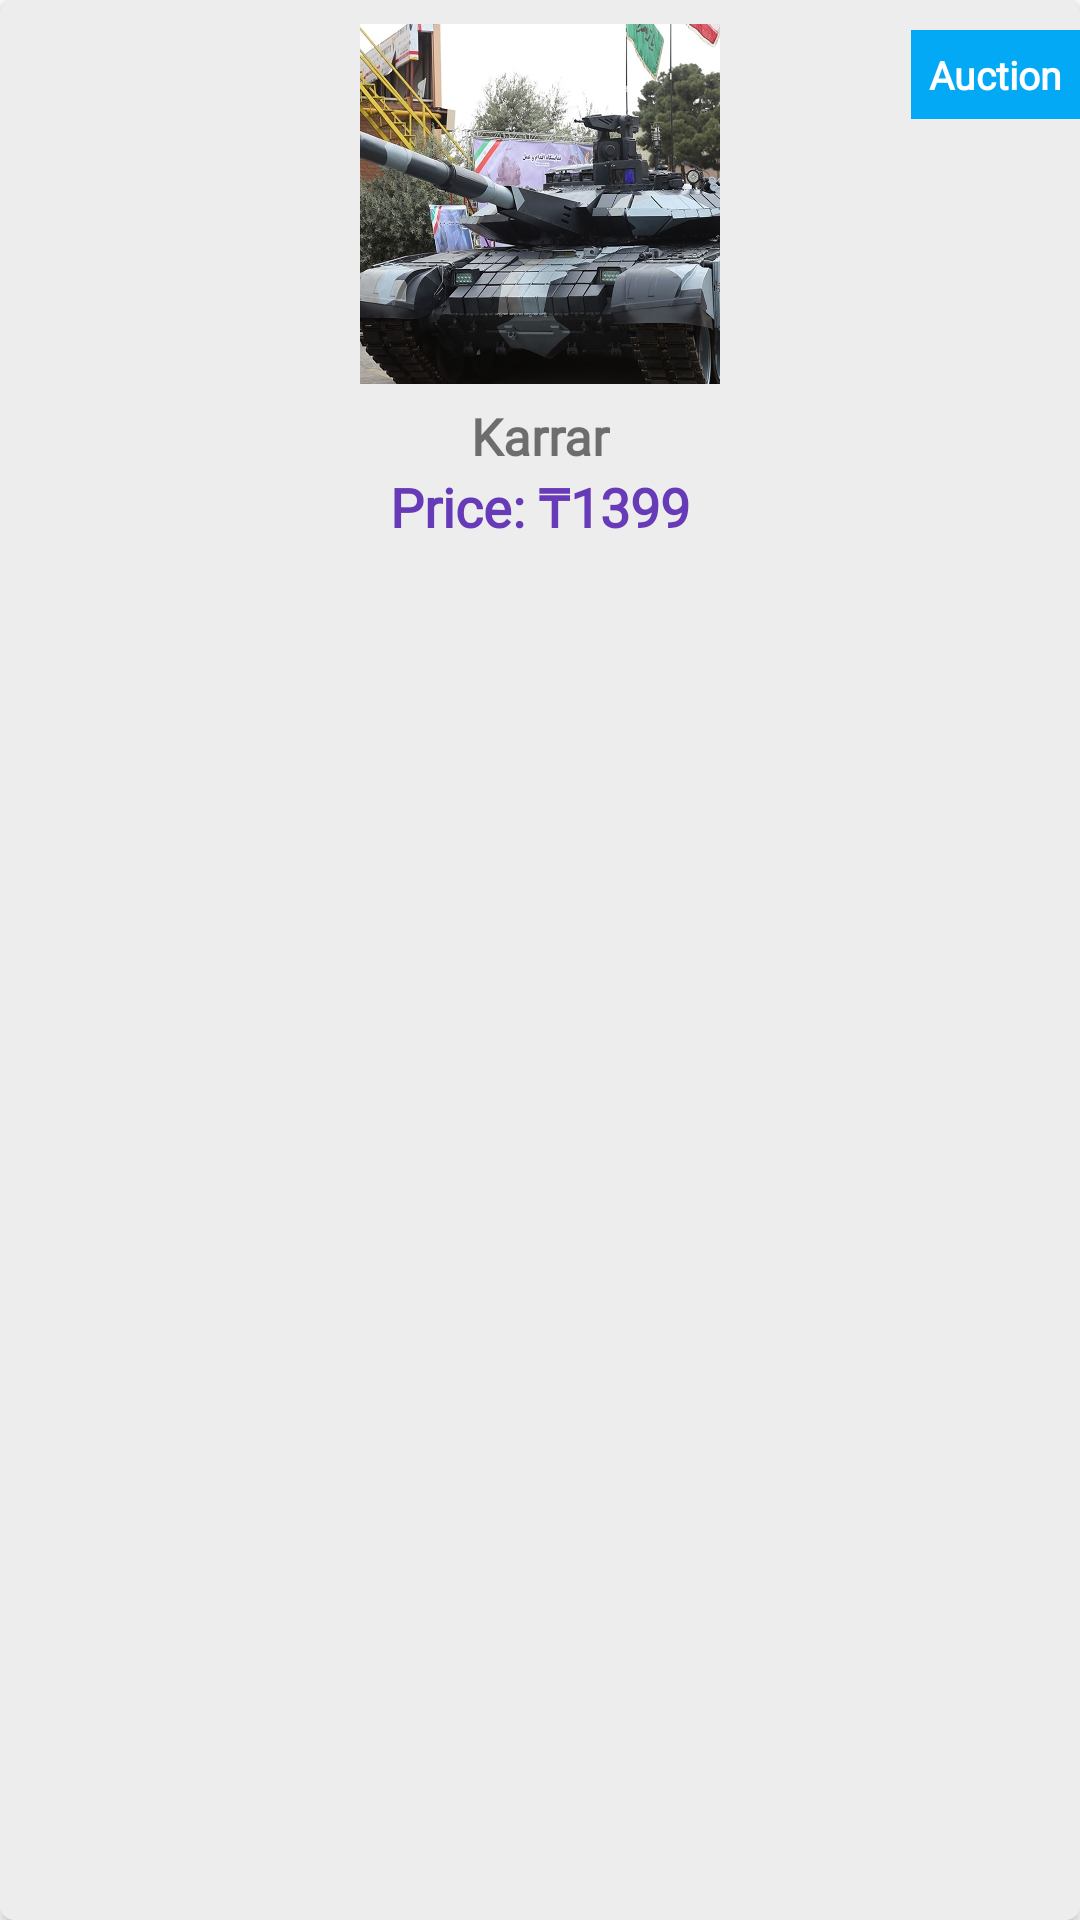

Icon bounding boxes for this 1080w x 1920h phone screenshot, format (x1, y1, x2, y2):
tank: (360, 24, 720, 384)
